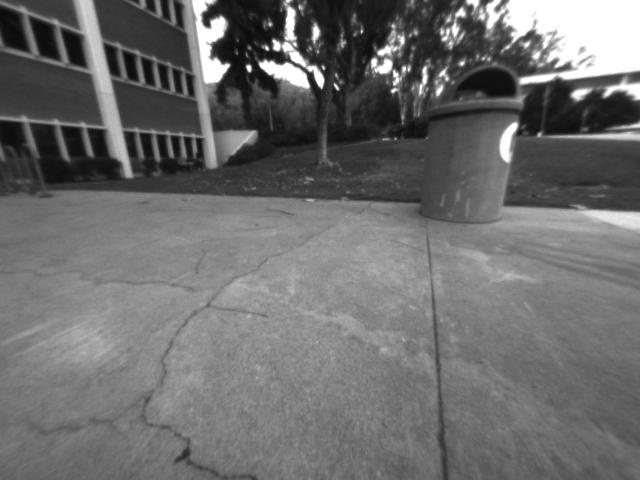trashcan: (414, 61, 531, 229)
